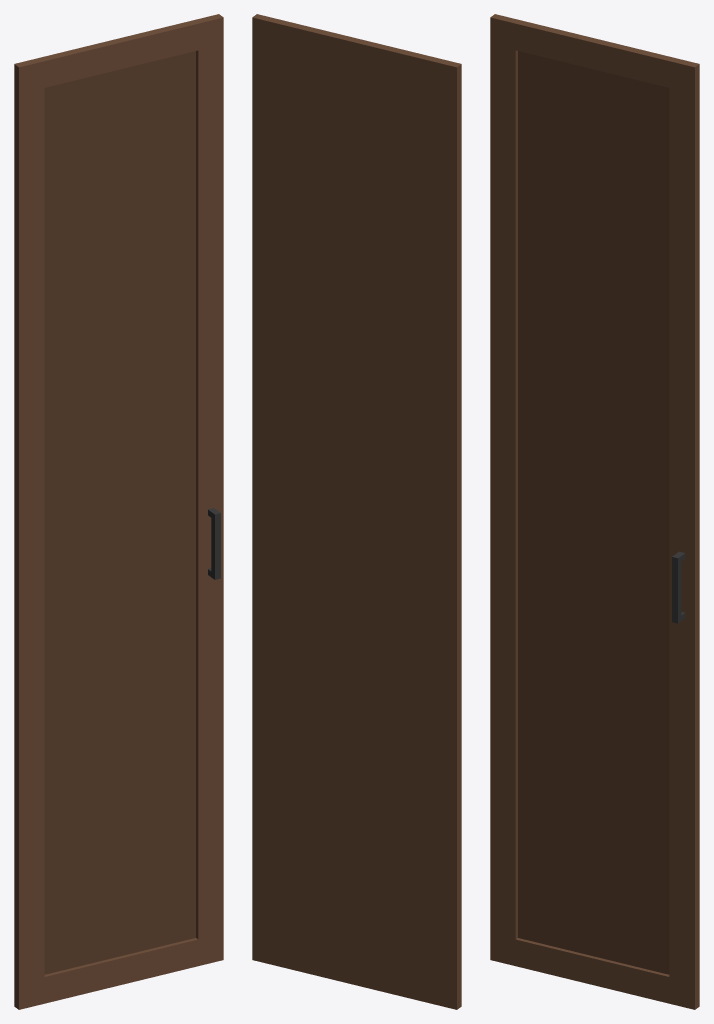
File: Wardrobe4_C3_05.fbx
3 views of the same model, side by side, from view 1: azimuth 30°, elevation 25°; view 2: azimuth 150°, elevation 25°; view 3: azimuth 330°, elevation 25° (orthographic).
Parts seen in each view (by area): view 1: Wardrobe4_C3_05; view 2: Wardrobe4_C3_05; view 3: Wardrobe4_C3_05.
Part boxes in pixels (left/top/right/bottom): Wardrobe4_C3_05: left=14, top=14, right=223, bottom=1009; Wardrobe4_C3_05: left=252, top=14, right=461, bottom=1009; Wardrobe4_C3_05: left=490, top=14, right=699, bottom=1009.
Size of the model in its own units: 50 by 220 by 5.02.
